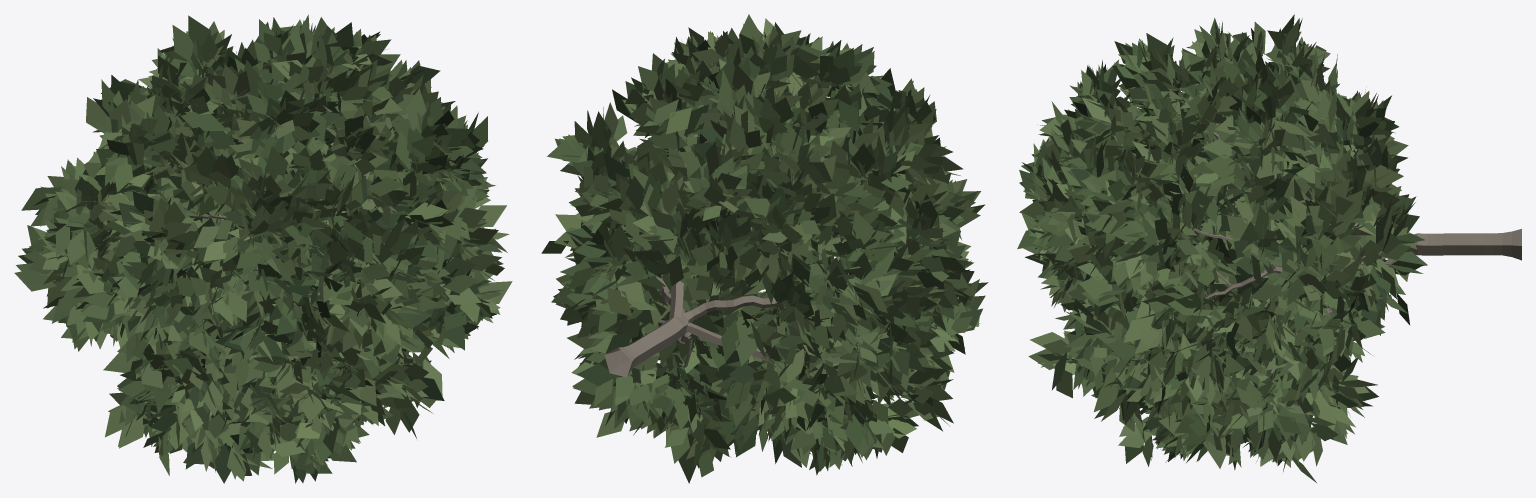
File: tree_mid_09.obj
3 renders of one model, left to right at view 1: azimuth 30°, elevation 25°; view 2: azimuth 150°, elevation 25°; view 3: azimuth 270°, elevation 25°, orthographic. The views are drawn at different scales.
Visible parts, largest first — view 1: tree_mid_09; view 2: tree_mid_09; view 3: tree_mid_09.
Boxes of the visible parts, <box> form: tree_mid_09: <box>14,14,512,483</box>; tree_mid_09: <box>541,14,988,483</box>; tree_mid_09: <box>1017,14,1521,482</box>.
Bounding box in the file's own units: 0.9345 × 0.9412 × 1.01.
1 material, 1 textured.
